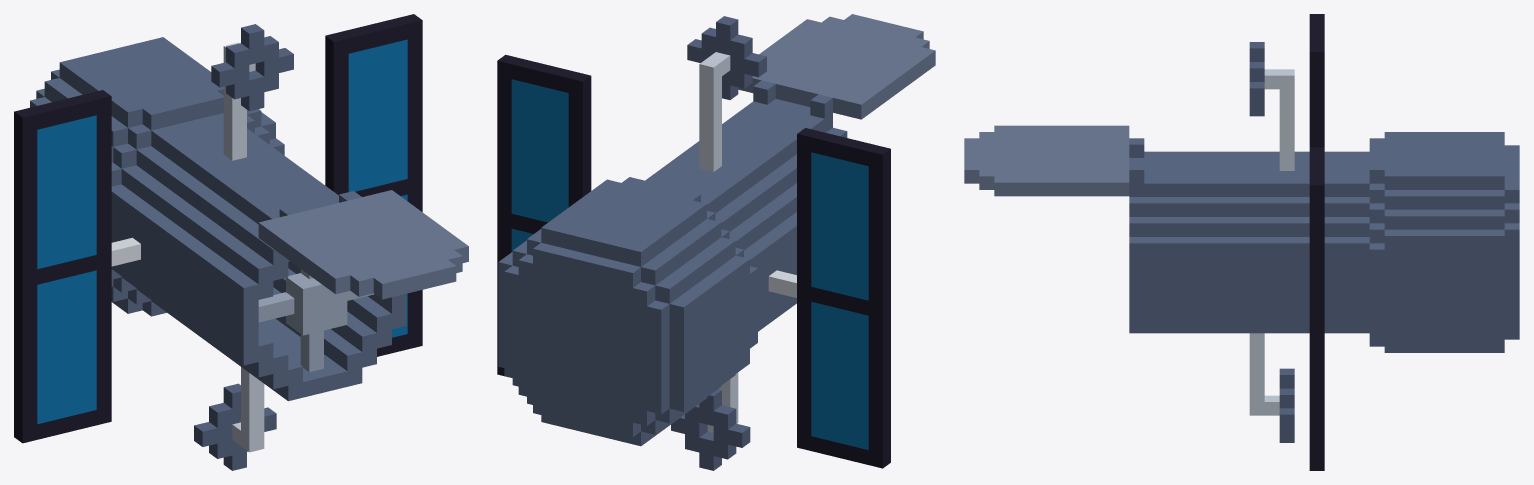
The model's file is space_telescope.glb.
3 renders of one model, left to right at view 1: azimuth 30°, elevation 25°; view 2: azimuth 150°, elevation 25°; view 3: azimuth 270°, elevation 25°, orthographic. The views are drawn at different scales.
Parts seen in each view (by area): view 1: ObjObject.009; view 2: ObjObject.009; view 3: ObjObject.009.
Boxes of the visible parts, x1,y1,x2,y2 form: ObjObject.009: (14, 14, 468, 470); ObjObject.009: (497, 14, 935, 470); ObjObject.009: (964, 14, 1519, 470).
Bounding box in the file's own units: 2.7 × 2.9 × 3.7.
1 material, 1 textured.
